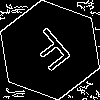F: (25, 25, 80, 80)
